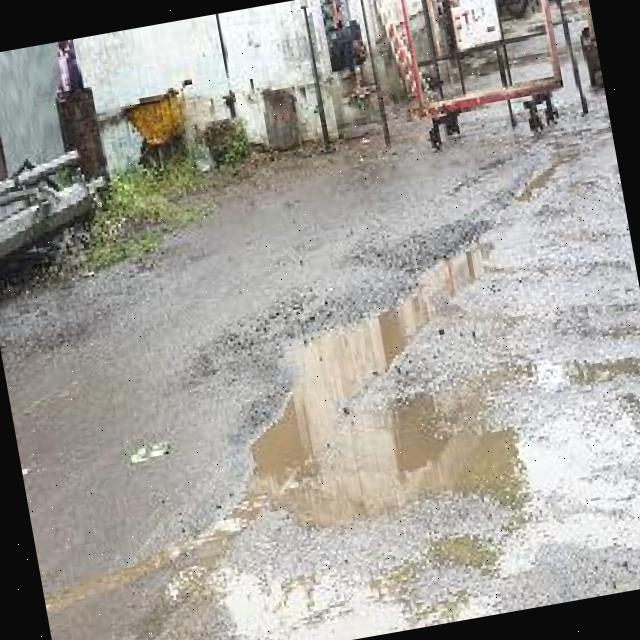stagnation: (232, 227, 543, 544)
